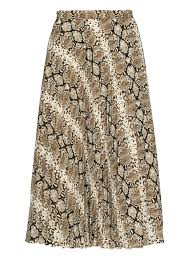C_skirt: (22, 5, 168, 251)
